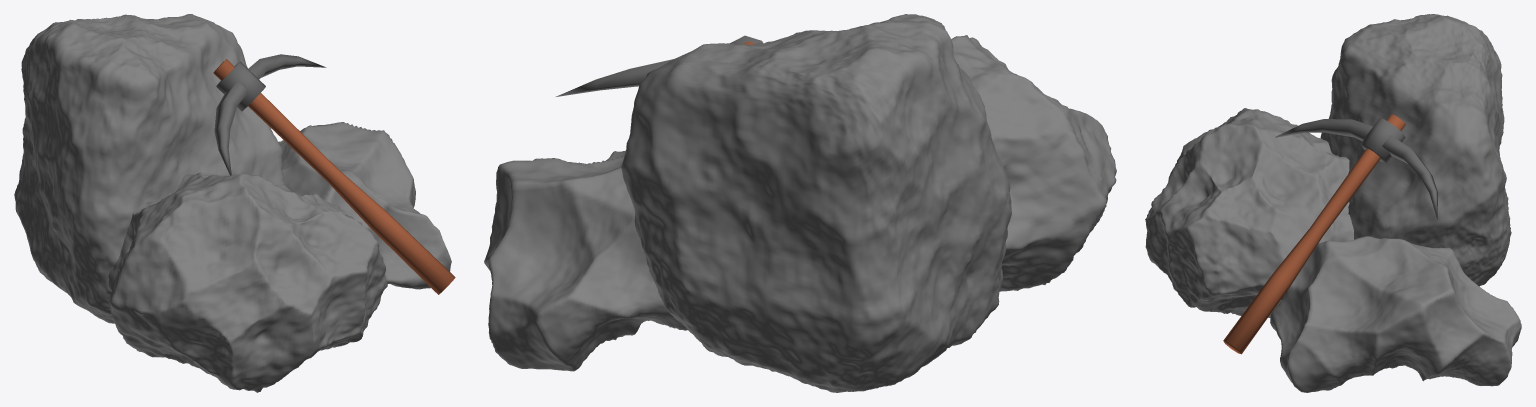
File: quarry.fbx
3 views of the same model, side by side, from view 1: azimuth 30°, elevation 25°; view 2: azimuth 150°, elevation 25°; view 3: azimuth 270°, elevation 25° (orthographic). The views are drawn at different scales.
Parts seen in each view (by area): view 1: rock.001, rock.002, rock.003, 円柱, 円錐, 円柱.001; view 2: rock.001, rock.003, rock.002, 円錐; view 3: rock.001, rock.003, rock.002, 円柱, 円錐, 円柱.001.
Boxes of the visible parts, <box> form: rock.001: <box>14,14,284,323</box>; rock.002: <box>108,172,387,392</box>; rock.003: <box>278,122,451,289</box>; 円柱: <box>213,59,455,294</box>; 円錐: <box>214,54,326,175</box>; 円柱.001: <box>216,61,265,111</box>; rock.001: <box>621,14,1011,392</box>; rock.003: <box>484,150,687,371</box>; rock.002: <box>951,35,1116,291</box>; 円錐: <box>556,59,673,96</box>; rock.001: <box>1320,14,1511,286</box>; rock.003: <box>1270,236,1521,392</box>; rock.002: <box>1145,108,1353,317</box>; 円柱: <box>1223,114,1405,354</box>; 円錐: <box>1275,119,1437,219</box>; 円柱.001: <box>1360,118,1405,163</box>.
Bounding box in the file's own units: 106 × 77.08 × 102.
